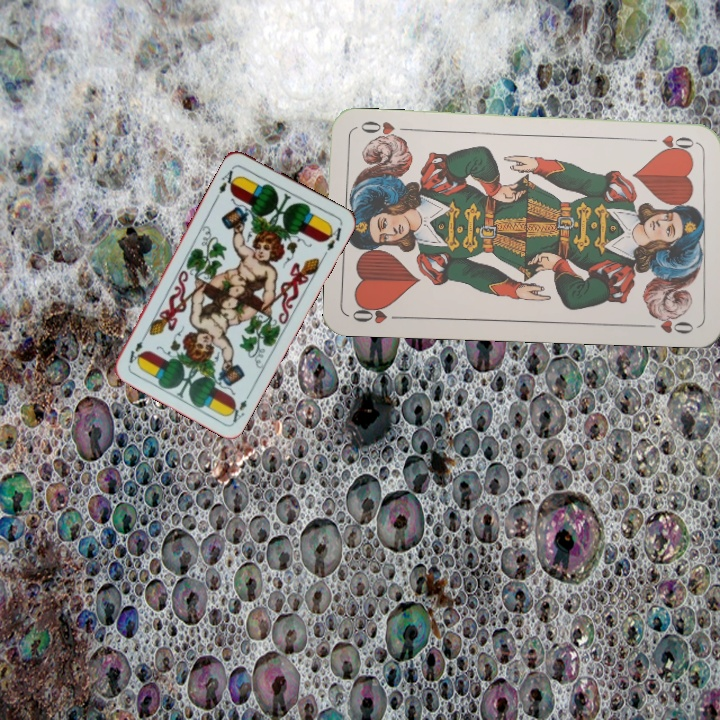EA: (224, 387, 254, 425), (212, 163, 240, 201)
HO: (348, 301, 406, 327), (643, 130, 702, 153)
